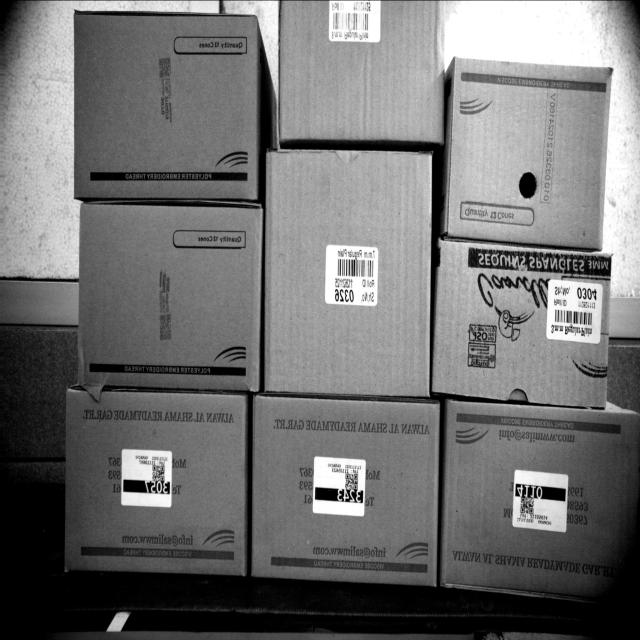cardboxes: (265, 150, 434, 396), (437, 400, 640, 596), (252, 388, 441, 580), (73, 203, 263, 388), (70, 11, 259, 196), (65, 390, 246, 572), (446, 55, 608, 248), (431, 244, 615, 404), (277, 0, 441, 148)
